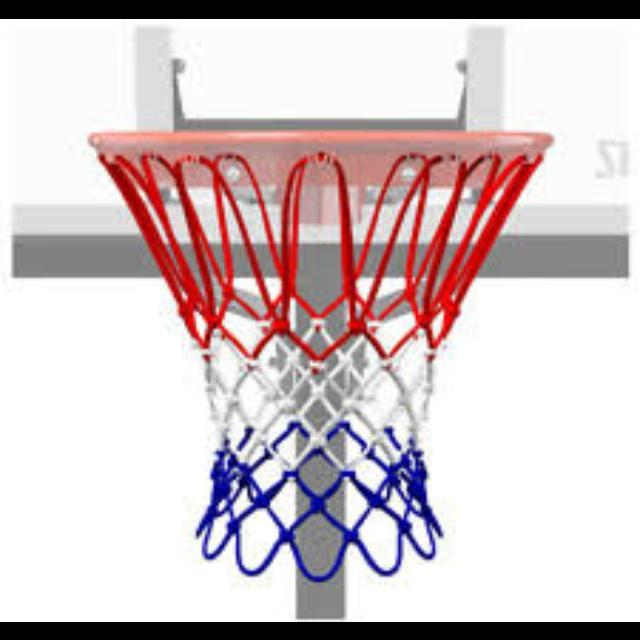rim: (89, 130, 557, 576)
